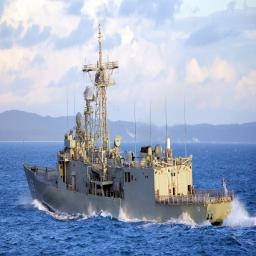Fragata: (23, 20, 237, 230)
